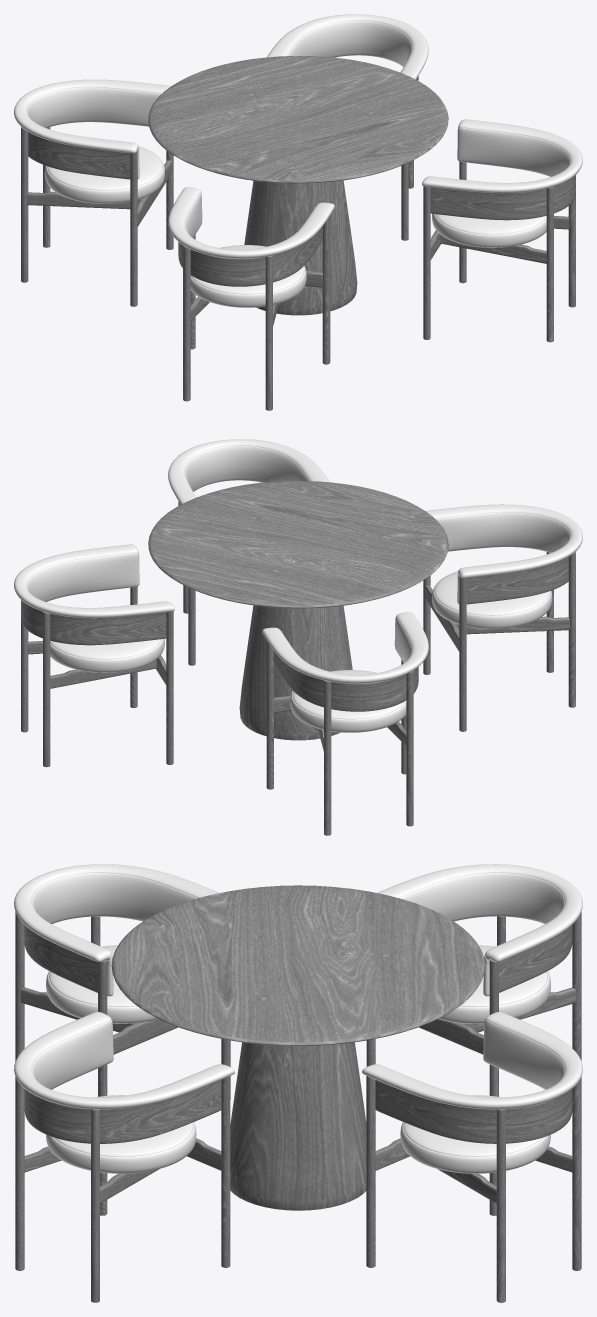
The model's file is table_dining_01.glb.
3 renders of one model, top to bottom at view 1: azimuth 30°, elevation 25°; view 2: azimuth 150°, elevation 25°; view 3: azimuth 270°, elevation 25°, orthographic. The views are drawn at different scales.
Parts seen in each view (by area): view 1: table, chair, chair.002, chair.003, chair.001; view 2: table, chair.001, chair.003, chair.002, chair; view 3: table, chair.001, chair, chair.003, chair.002.
Part boxes in pixels (x1,y1,x2,y2): table: (148,56,448,315); chair: (422,119,582,342); chair.002: (14,79,173,306); chair.003: (168,187,334,410); chair.001: (267,14,428,240); table: (148,481,448,740); chair.001: (14,544,174,767); chair.003: (423,504,582,731); chair.002: (262,612,428,835); chair: (168,439,329,665); table: (111,885,485,1210); chair.001: (362,1011,582,1302); chair: (14,1012,234,1302); chair.003: (14,864,230,1099); chair.002: (366,864,582,1066).
Size of the model in its own units: 1.76 by 0.7513 by 1.76.
2 materials, 1 textured.
